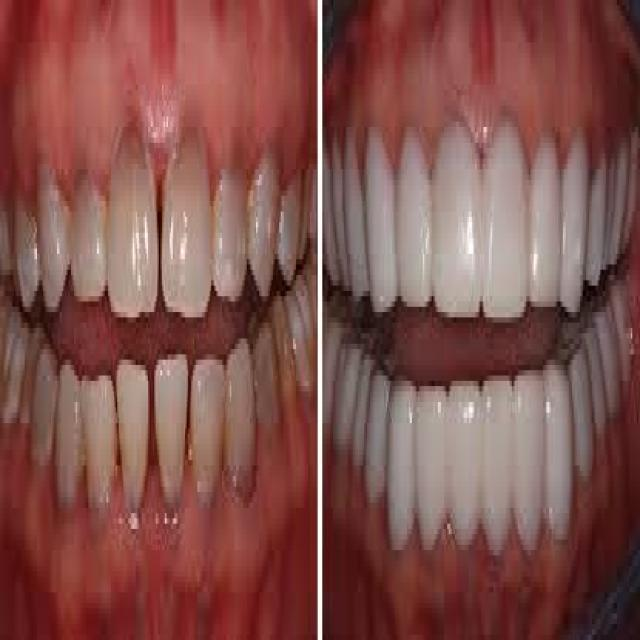tooth: (478, 80, 531, 333), (432, 106, 483, 333), (162, 143, 216, 312), (389, 116, 433, 318), (105, 148, 160, 307), (446, 354, 482, 566), (514, 354, 548, 566), (543, 338, 575, 560), (527, 116, 563, 312), (364, 100, 396, 318), (481, 360, 514, 571), (385, 354, 415, 566), (416, 365, 449, 550), (33, 159, 76, 296), (561, 116, 589, 312), (80, 370, 114, 529), (154, 360, 188, 508), (191, 360, 225, 502), (116, 360, 148, 508), (227, 344, 256, 497), (72, 175, 108, 296), (214, 169, 248, 291), (56, 360, 84, 508), (250, 154, 279, 296), (367, 360, 389, 524), (34, 344, 54, 471)
